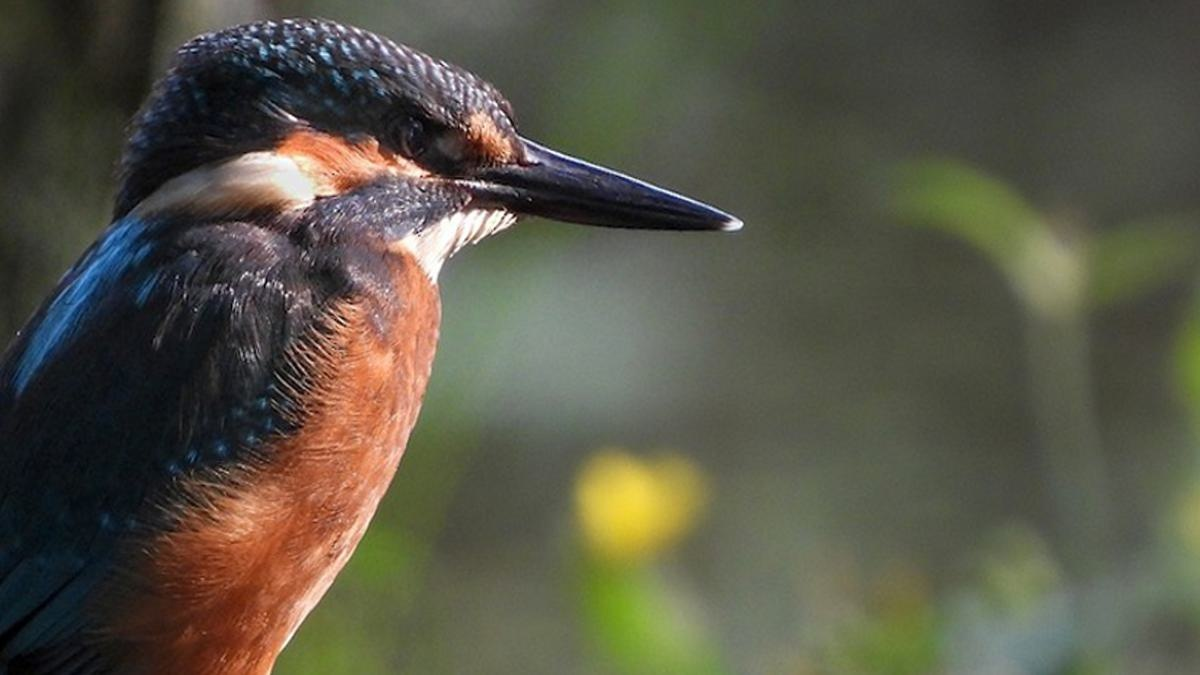kingfisher: (1, 21, 735, 640)
